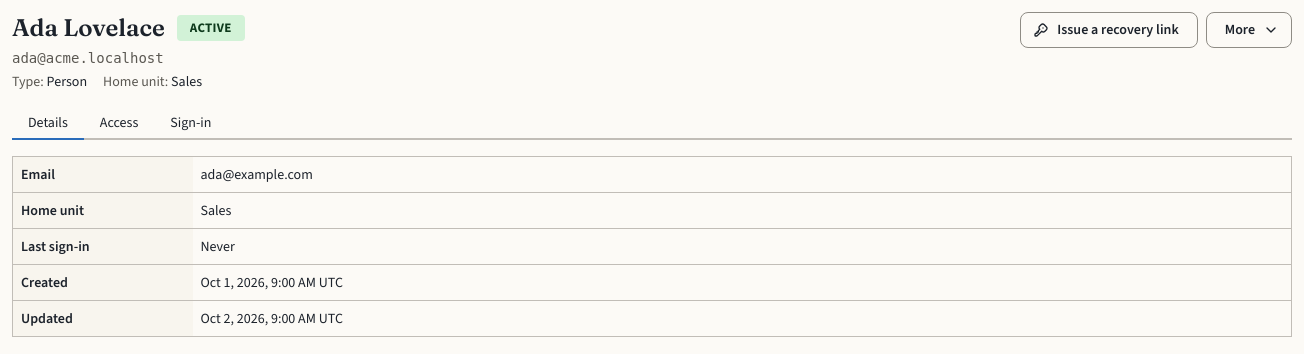
Test: signing in as someone, revoking, and the emergency mark on the user record › does not offer to sign in as someone whose permissions the reader lacks, nor to anyone without the permission [TF-025 AC4, ADR-0049]
The width and height of the screenshot is (1304, 354).
expect the button "Issue a recovery link" is shown: met, box [1020,12,1198,48]
Click the button with aria-label "More actions for Ada Lovelace" at (1249, 30), box [1206,12,1292,48]
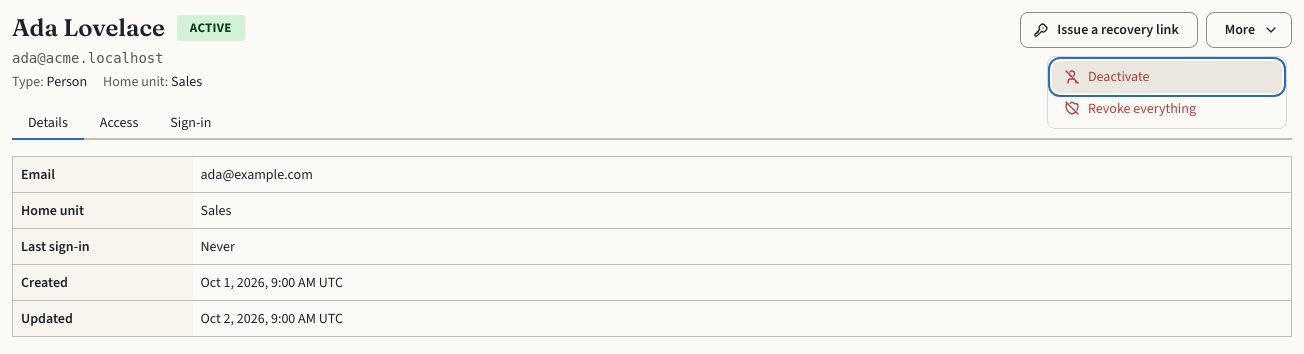
expect the text "Revoke everything" is shown: met, box [1088,99,1196,118]
